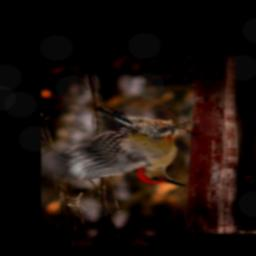Woodpecker: (44, 106, 188, 189)
